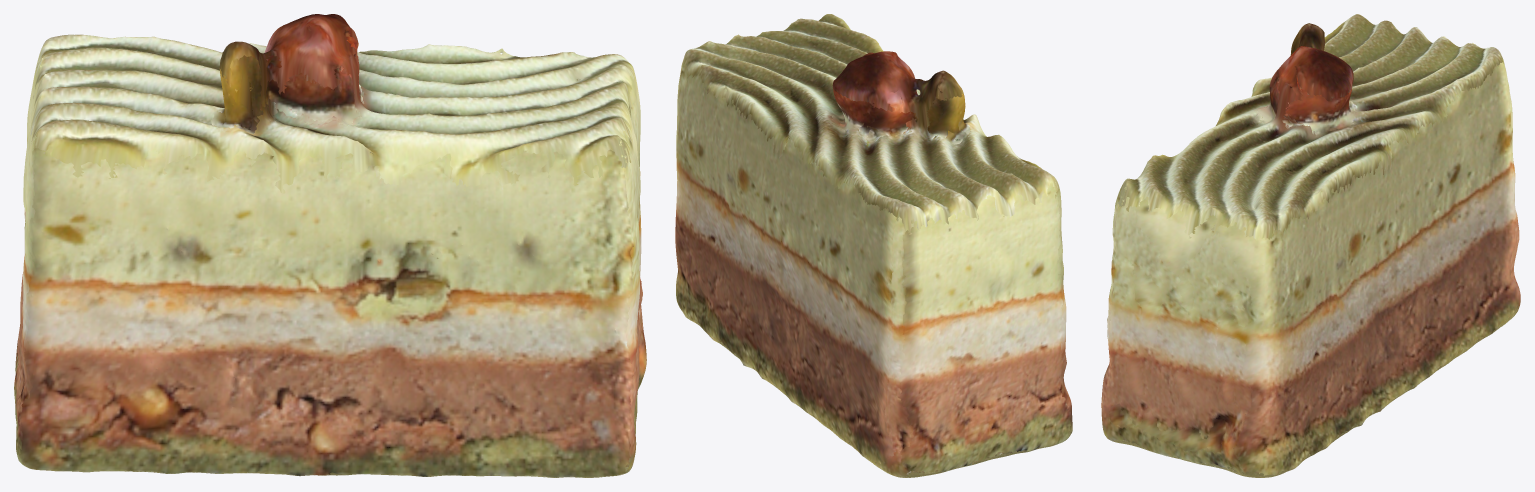
Rendered from pistachio_dessert01.glb.
3 renders of one model, left to right at view 1: azimuth 30°, elevation 25°; view 2: azimuth 150°, elevation 25°; view 3: azimuth 270°, elevation 25°, orthographic. The views are drawn at different scales.
Visible parts, largest first — view 1: Object_2, Object_5, Object_3, Object_4; view 2: Object_2, Object_5, Object_3, Object_4; view 3: Object_2, Object_5, Object_3, Object_4.
Part boxes in pixels (x1,y1,x2,y2): Object_2: (15,14,646,477); Object_5: (25,35,640,261); Object_3: (14,201,645,477); Object_4: (14,71,646,477); Object_2: (675,49,1071,463); Object_5: (677,14,1062,310); Object_3: (675,167,1072,477); Object_4: (676,84,1071,477); Object_2: (1101,19,1519,475); Object_5: (1112,14,1512,313); Object_3: (1102,59,1520,477); Object_4: (1102,154,1520,477).
Size of the model in its own units: 108 by 75.92 by 89.19.
Materials: 1 (1 with a texture image).
